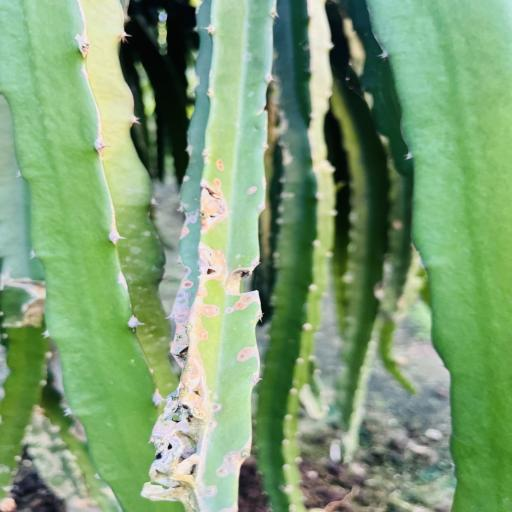stemcanker: (222, 293, 256, 321), (218, 450, 236, 480), (206, 402, 222, 435), (214, 154, 226, 194), (173, 291, 193, 311), (202, 302, 220, 320), (245, 182, 259, 203), (233, 252, 249, 268), (204, 481, 217, 499), (238, 352, 254, 366), (198, 329, 211, 343), (181, 279, 195, 291), (239, 445, 249, 460)
